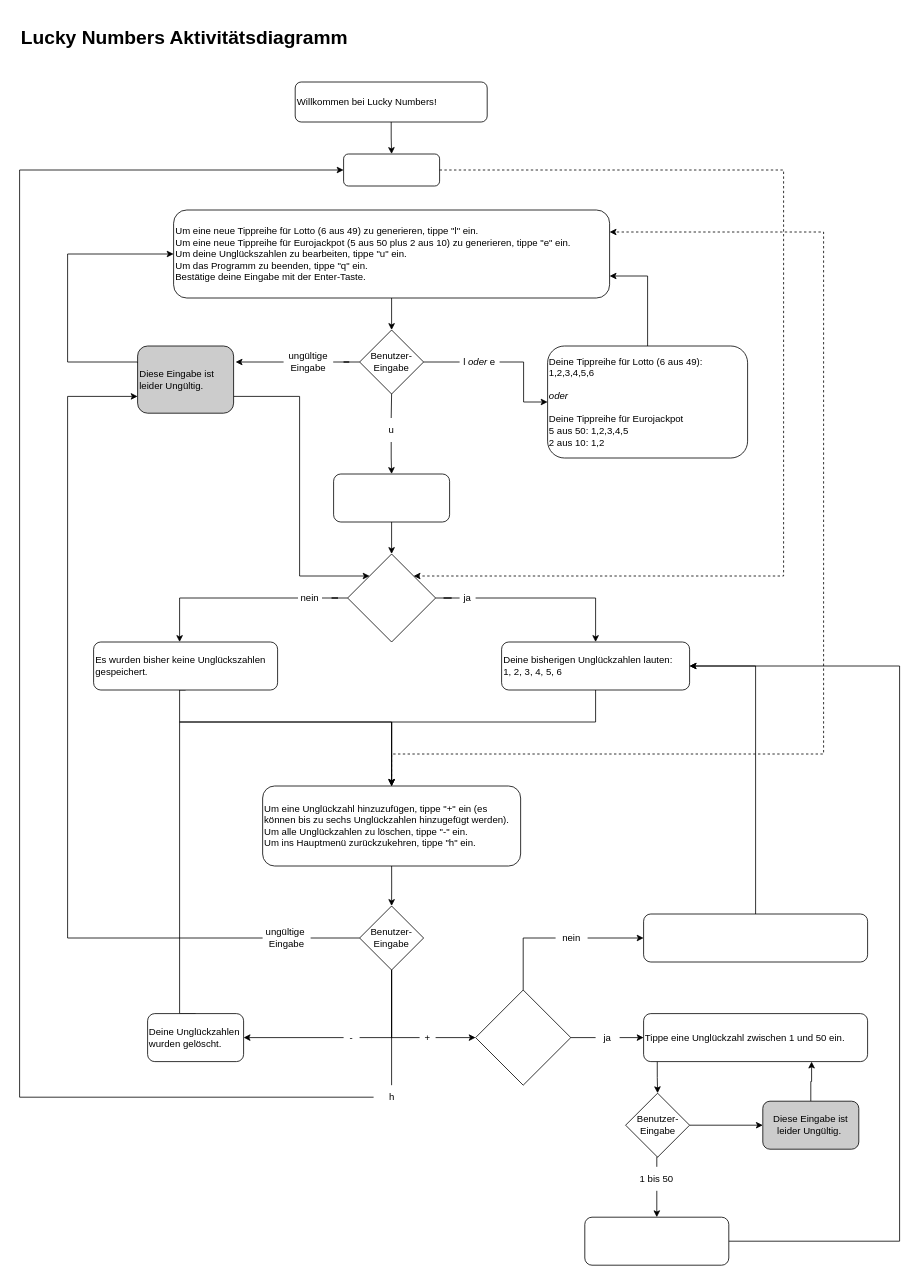
Some shapes in this 920 by 1279 pixel diagram are drawn without their labels. Here are the shapes that lost their labels. From the top down, the centre of each, then its label:
At point (391, 169): "HAUPTMENÜ".
At point (391, 497): "UNGLÜCKSZAHLEN:".
At point (391, 597): "bereits Unglückzahlen gespeichert?".
At point (755, 937): "Es dürfen höchstens sechs Unglückszahlen gespeichert werden.".
At point (523, 1037): "<= 6 gespeicherte Unglückzahlen".
At point (656, 1240): "Neue Unglückzahl gespeichert.".
